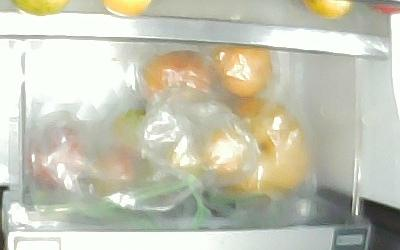peach_vinyl: (137, 49, 214, 97), (209, 46, 273, 97)
pear_vinyl: (221, 102, 306, 197)
tangerine_vinyl: (203, 128, 246, 173)
tomato_vinyl: (26, 125, 86, 192), (89, 147, 138, 197), (111, 107, 147, 149)
